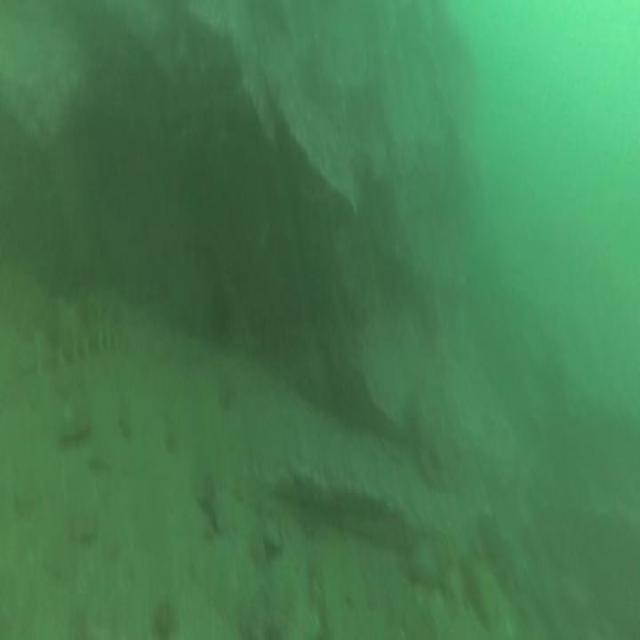holothurian: (15, 296, 137, 386)
